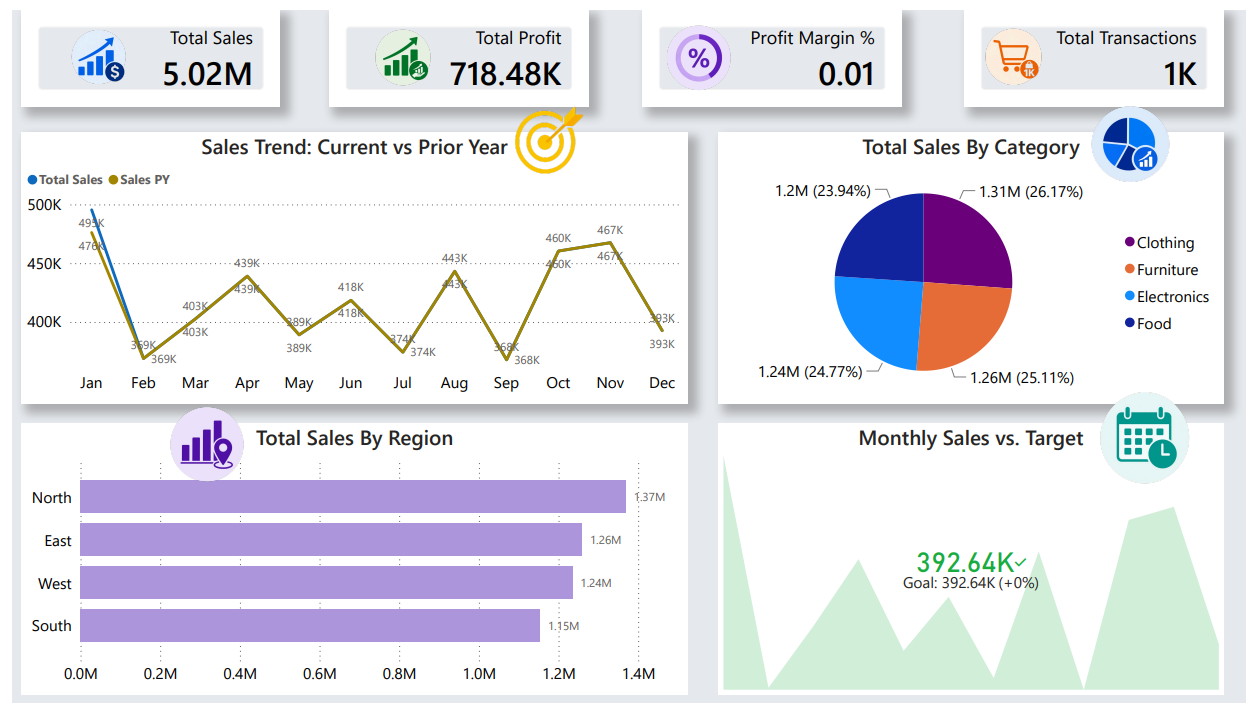

The dashboard page shown, as its layout file describes it:
{"tool":"powerbi","page":{"name":"Executive Summary","canvas":[1280,720],"ordinal":1},"visuals":[{"type":"lineChart","title":"Sales Trend: Current vs Prior Year","fields":{"Category":["Dim_Date.Month Short"],"Y":["Measure.Total Sales","Measure.Sales PY"]},"box":[9.5,127.2,691.9,281.5],"z":0},{"type":"pieChart","title":"Total Sales By Category","fields":{"Category":["Dim_Cat.Product_Category"],"Y":["Measure.Total Sales"]},"box":[733.3,127.2,523.3,281.5],"z":1000},{"type":"kpi","title":"Monthly Sales vs. Target","fields":{"Goal":["Measure.Sales PY"],"Indicator":["Measure.Total Sales"],"TrendLine":["Dim_Date.Month Short"]},"box":[733.3,429.5,523.3,281.5],"z":2000},{"type":"barChart","title":"Total Sales By Region","fields":{"Category":["Dim_Region.Region"],"Y":["Measure.Total Sales"]},"box":[9.5,429.5,691.9,281.5],"z":3000},{"type":"cardVisual","fields":{"Data":["Measure.Profit Margin %"]},"box":[653.7,0,268.8,100.2],"z":4000},{"type":"cardVisual","fields":{"Data":["Measure.Total Sales"]},"box":[9.5,0,268.8,100.2],"z":5000},{"type":"cardVisual","fields":{"Data":["Measure.Total Profit"]},"box":[329.3,0,268.8,100.2],"z":6000},{"type":"cardVisual","fields":{"Data":["Measure.Total Transactions"]},"box":[987.8,0,268.8,100.2],"z":7000},{"type":"image","box":[329.3,17.5,152.7,66.8],"z":8000},{"type":"image","box":[653.7,11.1,117.7,79.5],"z":9000},{"type":"image","box":[23.9,17.5,132,66.8],"z":10000},{"type":"image","box":[975,15.9,127.2,68.4],"z":11000},{"type":"image","box":[1102.3,100.2,116.1,77.9],"z":12000},{"type":"image","box":[155.9,408.8,90.7,85.9],"z":13000},{"type":"image","box":[1102.3,394.5,146.3,100.2],"z":14000},{"type":"image","box":[472.4,90.7,167,90.7],"z":15000}]}

Visuals, with their boxes in screenshot pixels (x1, y1, x2, y2), scaled from the page's 1280x720 canvas onto the 1258x712 screenshot:
"Sales Trend: Current vs Prior Year" lineChart: x1=9, y1=126, x2=689, y2=404
"Total Sales By Category" pieChart: x1=721, y1=126, x2=1235, y2=404
"Monthly Sales vs. Target" kpi: x1=721, y1=425, x2=1235, y2=703
"Total Sales By Region" barChart: x1=9, y1=425, x2=689, y2=703
cardVisual - Measure.Profit Margin %: x1=642, y1=0, x2=907, y2=99
cardVisual - Measure.Total Sales: x1=9, y1=0, x2=274, y2=99
cardVisual - Measure.Total Profit: x1=324, y1=0, x2=588, y2=99
cardVisual - Measure.Total Transactions: x1=971, y1=0, x2=1235, y2=99
image: x1=324, y1=17, x2=474, y2=83
image: x1=642, y1=11, x2=758, y2=90
image: x1=23, y1=17, x2=153, y2=83
image: x1=958, y1=16, x2=1083, y2=83
image: x1=1083, y1=99, x2=1197, y2=176
image: x1=153, y1=404, x2=242, y2=489
image: x1=1083, y1=390, x2=1227, y2=489
image: x1=464, y1=90, x2=628, y2=179
